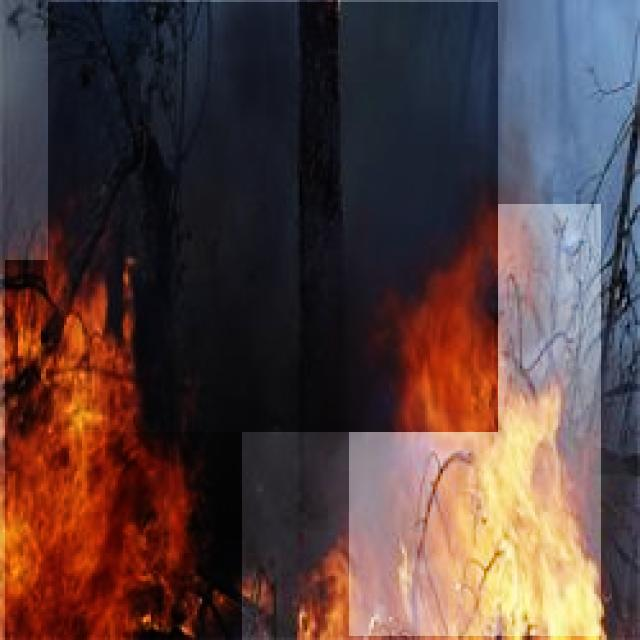Fire: (349, 204, 601, 636), (5, 260, 242, 640)
Smoke: (48, 2, 498, 432)
